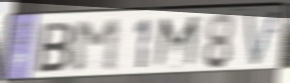1: (134, 17, 152, 71)
8: (202, 11, 236, 71)
B: (34, 21, 77, 75)
M: (151, 14, 203, 72), (72, 17, 122, 75)
V: (243, 8, 282, 70)
